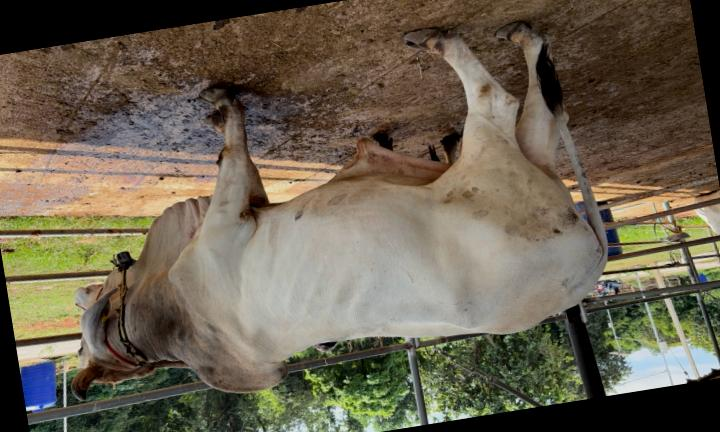Brahman: (72, 22, 608, 400), (72, 22, 607, 399)
